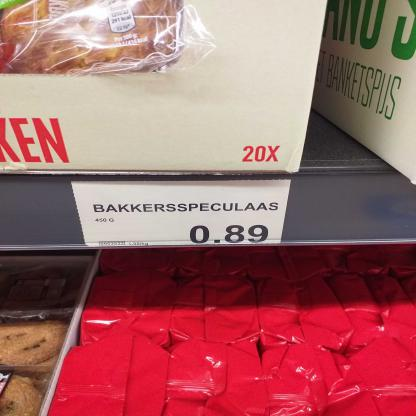prtg: (71, 180, 292, 248)
